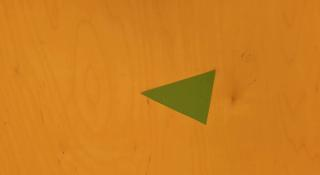Triangle: (142, 70, 216, 125)
